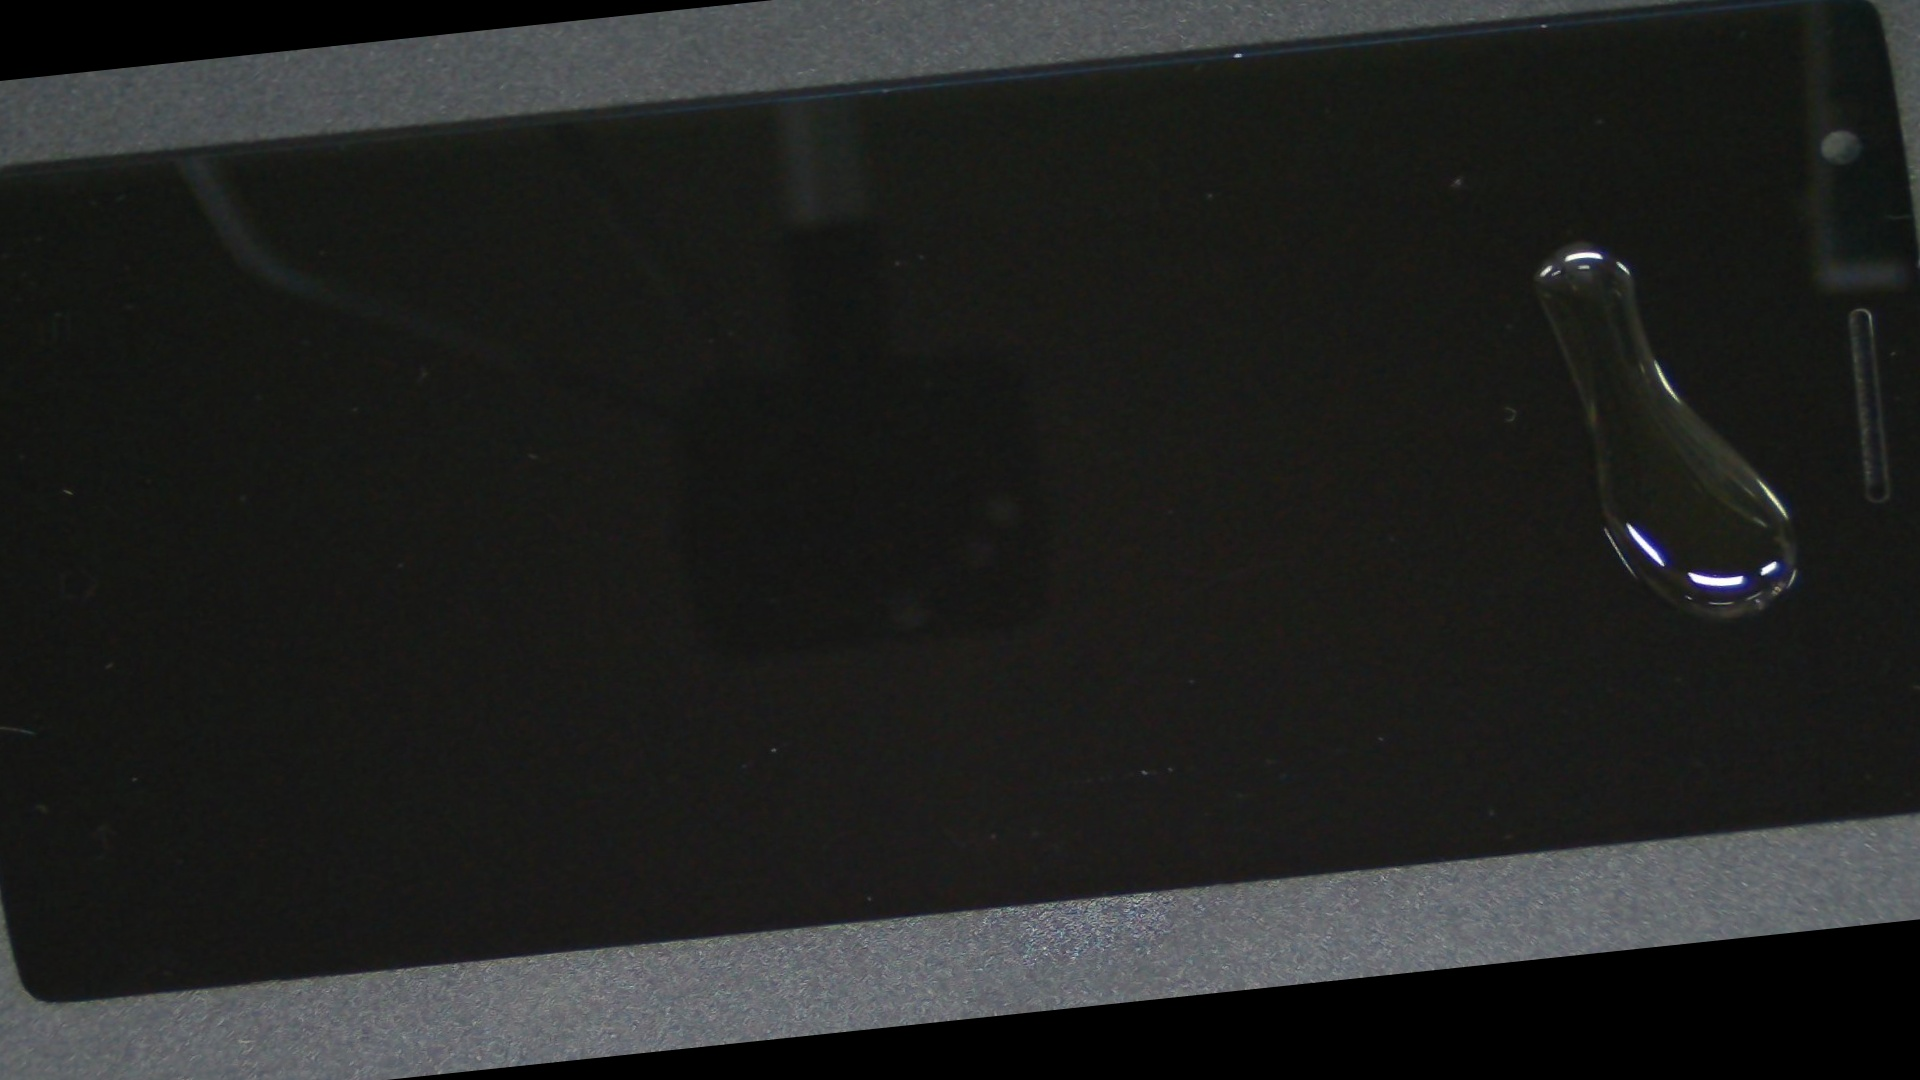oil: (684, 34, 1920, 493)
